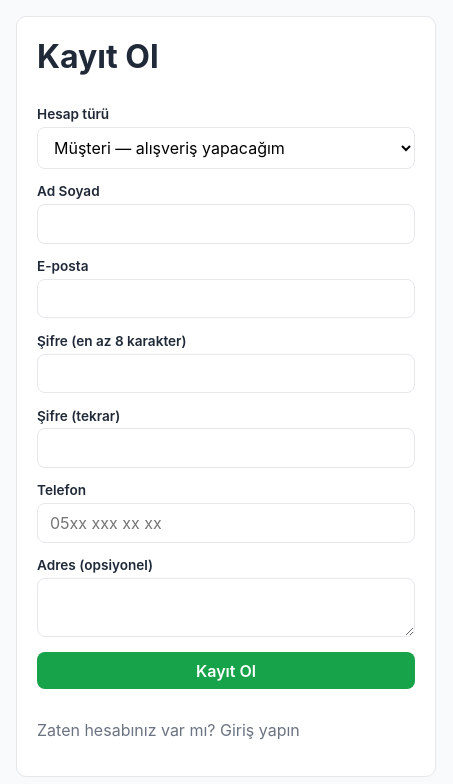
Register — şifre tekrarı › şifreler uyuşmazsa alanın altında uyarı çıkar
Type "parola12345" into the password field labelled "Şifre (en az 8 karakter)" at (226, 373), box [37,354,415,393]
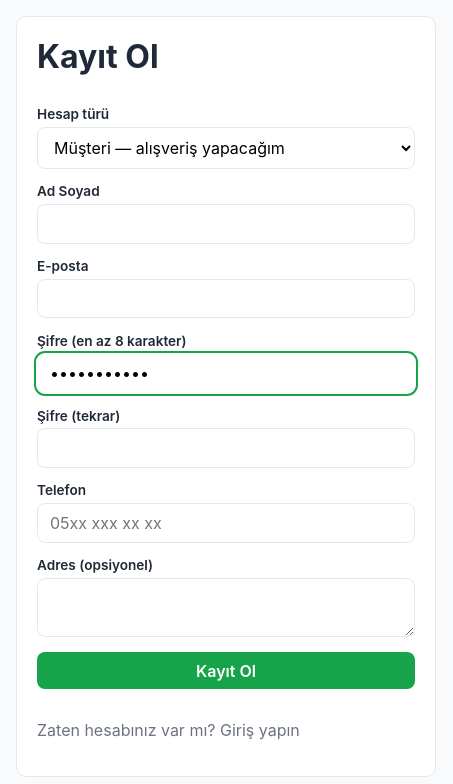
Type "baskaparola" into the password field labelled "Şifre (tekrar)" at (226, 448), box [37,428,415,468]
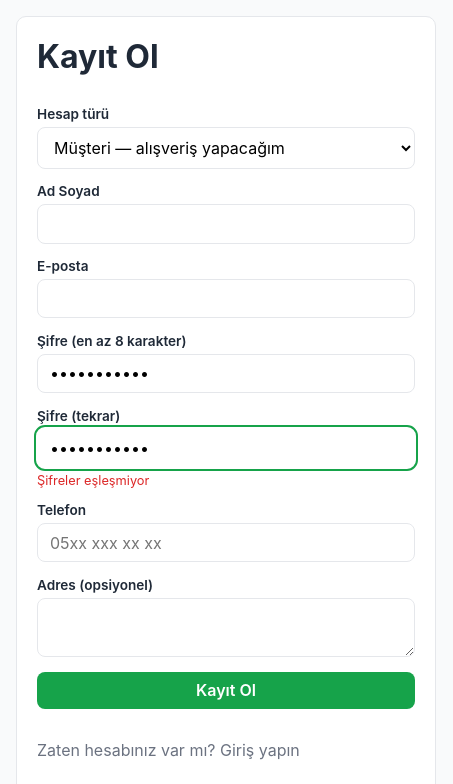
expect the text "Şifreler eşleşmiyor" is shown: met, box [37,473,149,488]
